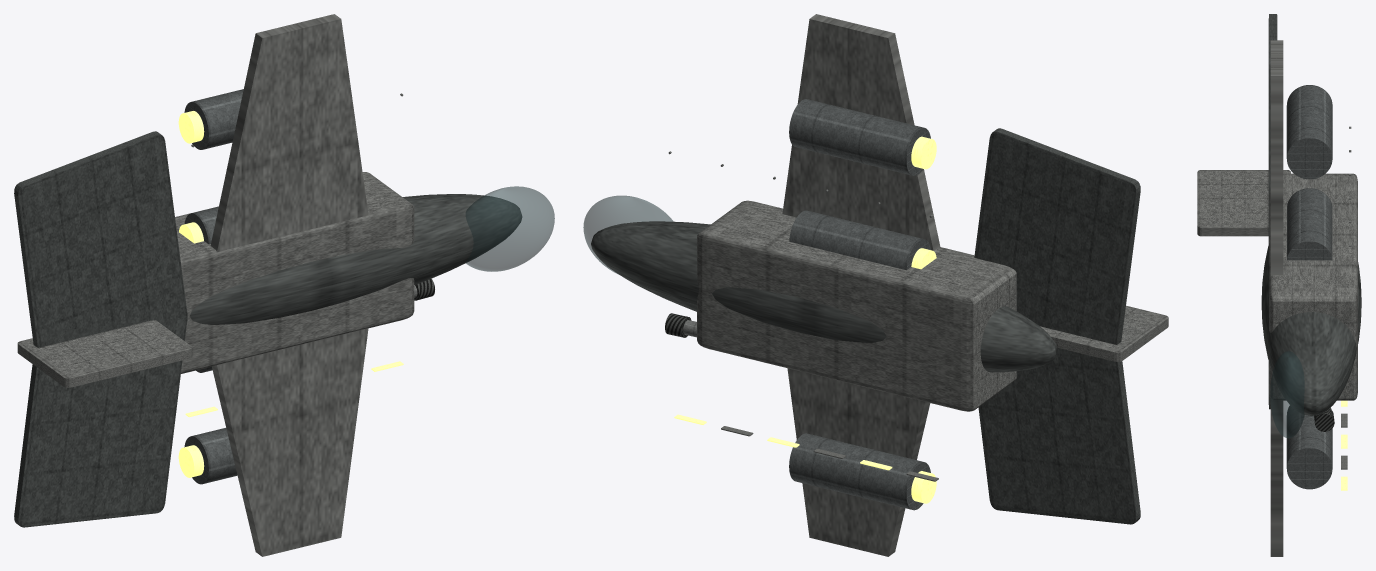
Rendered from c-u11-heavy-gunship-lod0.glb.
The picture shows the model from 3 angles, left to right: view 1: azimuth 30°, elevation 25°; view 2: azimuth 150°, elevation 25°; view 3: azimuth 270°, elevation 25°; orthographic projection. The views are drawn at different scales.
Parts seen in each view (by area): view 1: transport_high_wing, transport_tailplane_1, transport_tailplane_-1, cargo_body, transport_fuselage, transport_fin_0, transport_cockpit, transport_engine_3, transport_engine_0, transport_exhaust_0, transport_exhaust_3, transport_engine_2; view 2: cargo_body, transport_high_wing, transport_tailplane_1, transport_tailplane_-1, transport_fuselage, transport_engine_3, transport_engine_0, transport_engine_2, transport_fin_0, transport_cockpit; view 3: cargo_body, transport_fuselage, transport_high_wing, transport_fin_0, transport_engine_3, transport_engine_2, transport_engine_0, transport_cockpit, transport_tailplane_1, side_battery_0_muzzle_0.
Part boxes in pixels (box(x1,y1,x2,y2)): transport_high_wing: box(210, 14, 368, 556); transport_tailplane_1: box(14, 131, 187, 347); transport_tailplane_-1: box(14, 312, 187, 527); cargo_body: box(175, 172, 414, 373); transport_fuselage: box(189, 194, 521, 324); transport_fin_0: box(17, 320, 192, 387); transport_cockpit: box(465, 186, 554, 271); transport_engine_3: box(184, 89, 243, 149); transport_engine_0: box(184, 428, 237, 484); transport_exhaust_0: box(178, 445, 204, 477); transport_exhaust_3: box(178, 111, 204, 143); transport_engine_2: box(184, 206, 218, 244); cargo_body: box(697, 200, 1016, 411); transport_high_wing: box(782, 14, 940, 556); transport_tailplane_1: box(974, 128, 1140, 363); transport_tailplane_-1: box(978, 321, 1140, 524); transport_fuselage: box(591, 221, 1057, 372); transport_engine_3: box(789, 99, 930, 175); transport_engine_0: box(789, 433, 930, 510); transport_engine_2: box(789, 210, 930, 270); transport_fin_0: box(1040, 305, 1168, 361); transport_cockpit: box(583, 195, 673, 274); cargo_body: box(1269, 173, 1357, 400); transport_fuselage: box(1261, 243, 1361, 415); transport_high_wing: box(1270, 40, 1283, 556); transport_fin_0: box(1197, 170, 1290, 236); transport_engine_3: box(1286, 85, 1332, 179); transport_engine_2: box(1287, 188, 1332, 260); transport_engine_0: box(1286, 406, 1332, 489); transport_cockpit: box(1270, 351, 1304, 438); transport_tailplane_1: box(1268, 14, 1277, 242); side_battery_0_muzzle_0: box(1314, 408, 1334, 431).
Size of what is drawn, in the model's own units: 14.87 by 13.5 by 4.18.
Materials: 7 (7 with a texture image).
